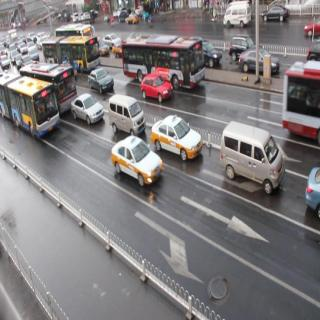BigCar: (120, 30, 206, 87), (1, 68, 58, 138), (20, 61, 76, 117), (40, 36, 106, 73)
Car: (220, 113, 279, 198), (108, 135, 162, 193), (149, 116, 202, 163), (107, 97, 145, 137), (239, 44, 278, 80), (136, 70, 172, 105), (70, 96, 103, 128), (87, 68, 115, 95), (228, 32, 257, 58), (224, 3, 252, 29), (262, 2, 291, 25), (126, 12, 140, 24), (27, 48, 39, 61), (119, 10, 131, 22), (9, 52, 20, 62), (19, 44, 28, 54)
